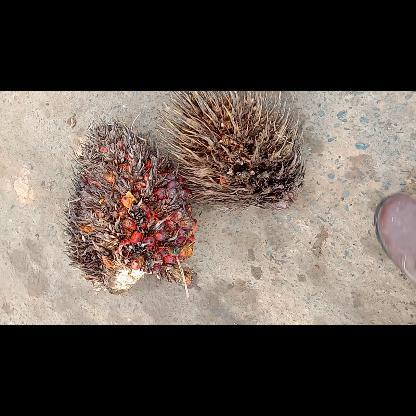Janjang kosong: (155, 90, 304, 214)
Terlalu masak: (59, 114, 197, 296)
